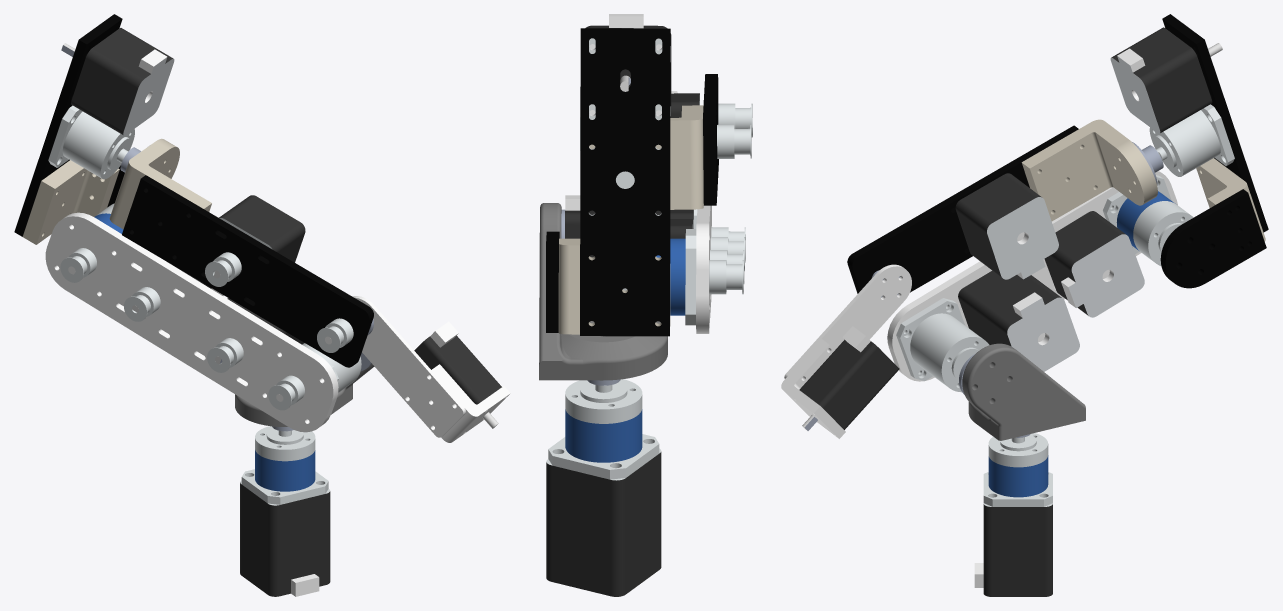
The model's file is arm.fbx.
3 renders of one model, left to right at view 1: azimuth 30°, elevation 25°; view 2: azimuth 150°, elevation 25°; view 3: azimuth 270°, elevation 25°, orthographic. The views are drawn at different scales.
Visible parts, largest first — view 1: Body_1_4, Body_1_17, 3DGeom-38, Body_1_24, 3DGeom-236_2, Body_1_13, Body_1_14, Body_1_16, 3DGeom-83, 3DGeom-236_3, 3DGeom-565, 3DGeom-83_2 (+11 smaller); view 2: Body_1_14, 3DGeom-38, Body_1_2, 3DGeom-83, Body_1_16, 3DGeom-84, Body_1_13, Body_1_17, Body_1_4, Body_1_12, 3DGeom-297, 3DGeom-296 (+13 smaller); view 3: Body_1_16, Body_1_2, Body_1_17, Body_1_12, 3DGeom-38, 3DGeom-236_2, 3DGeom-565, 3DGeom-235, 3DGeom-38_2, 3DGeom-235_3, 3DGeom-296_2, Body_1_4 (+15 smaller).
Part boxes in pixels (box(x1,y1,x2,y2)): Body_1_4: box(45, 212, 338, 432); Body_1_17: box(122, 175, 373, 367); 3DGeom-38: box(240, 482, 330, 596); Body_1_24: box(352, 296, 465, 437); 3DGeom-236_2: box(71, 28, 172, 134); Body_1_13: box(22, 160, 119, 244); Body_1_14: box(14, 14, 122, 236); Body_1_16: box(109, 138, 211, 229); 3DGeom-83: box(241, 426, 328, 504); 3DGeom-236_3: box(219, 195, 305, 262); 3DGeom-565: box(414, 335, 501, 404); 3DGeom-83_2: box(48, 105, 134, 179); Body_1_14: box(580, 28, 670, 336); 3DGeom-38: box(546, 452, 661, 596); Body_1_2: box(539, 203, 667, 380); 3DGeom-83: box(548, 379, 659, 479); Body_1_16: box(589, 105, 703, 209); 3DGeom-84: box(565, 409, 642, 462); Body_1_13: box(558, 238, 670, 334); Body_1_17: box(703, 74, 718, 205); Body_1_4: box(696, 205, 711, 333); Body_1_12: box(546, 231, 559, 332); 3DGeom-297: box(656, 238, 685, 315); 3DGeom-296: box(623, 229, 696, 325); Body_1_16: box(1021, 119, 1157, 221); Body_1_2: box(962, 343, 1085, 440); Body_1_17: box(847, 125, 1078, 293); Body_1_12: box(1160, 189, 1266, 288); 3DGeom-38: box(983, 504, 1052, 596); 3DGeom-236_2: box(1111, 27, 1212, 132); 3DGeom-565: box(799, 339, 899, 429); 3DGeom-235: box(1068, 234, 1144, 317); 3DGeom-38_2: box(958, 270, 1061, 346); 3DGeom-235_3: box(987, 197, 1058, 279); 3DGeom-296_2: box(896, 298, 989, 392); Body_1_4: box(887, 171, 1177, 381).
Size of the model in its own units: 0.1987 by 0.2945 by 0.3373.
